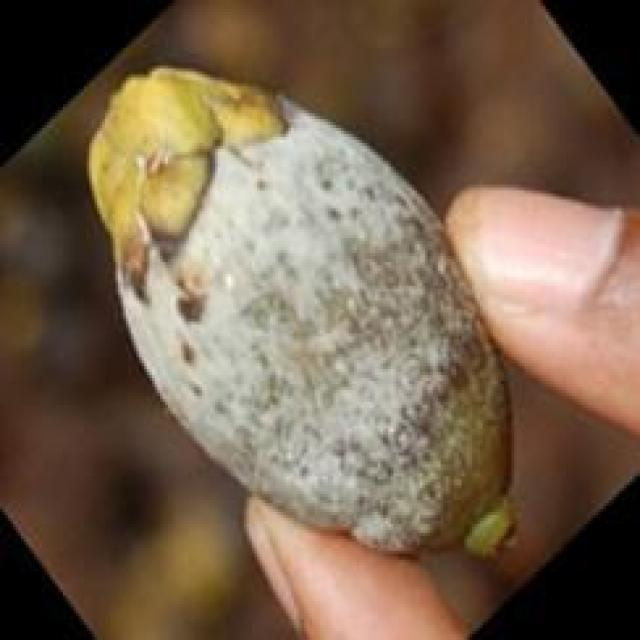damaged: (89, 65, 511, 551)
